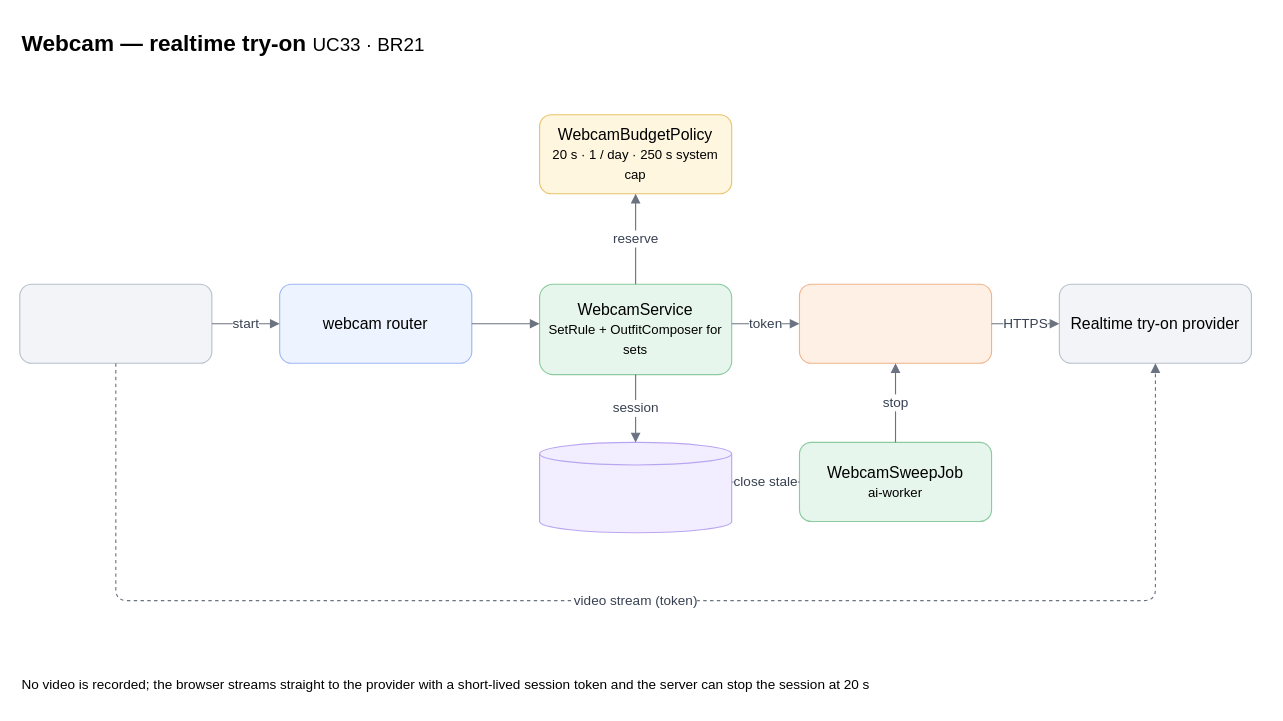
Some shapes in this 1283 by 721 pixel diagram are drawn without their labels. The box of each missing label's shape, as (x1, y1, x2, y2) in pixels:
Browser camera: (19, 283, 212, 363)
PostgreSQL · ai webcam_sessions · snapshots: (538, 441, 732, 533)
RealtimeTryOnProvider adapter: (798, 283, 992, 363)
